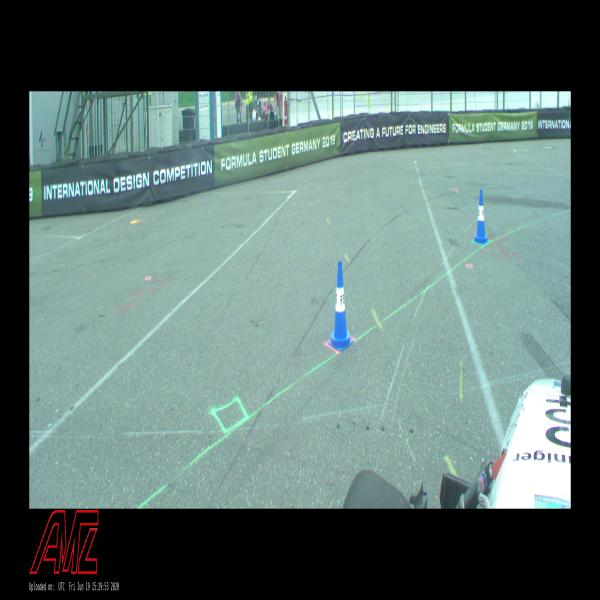blue_cone: (328, 262, 353, 352), (473, 190, 489, 245)
